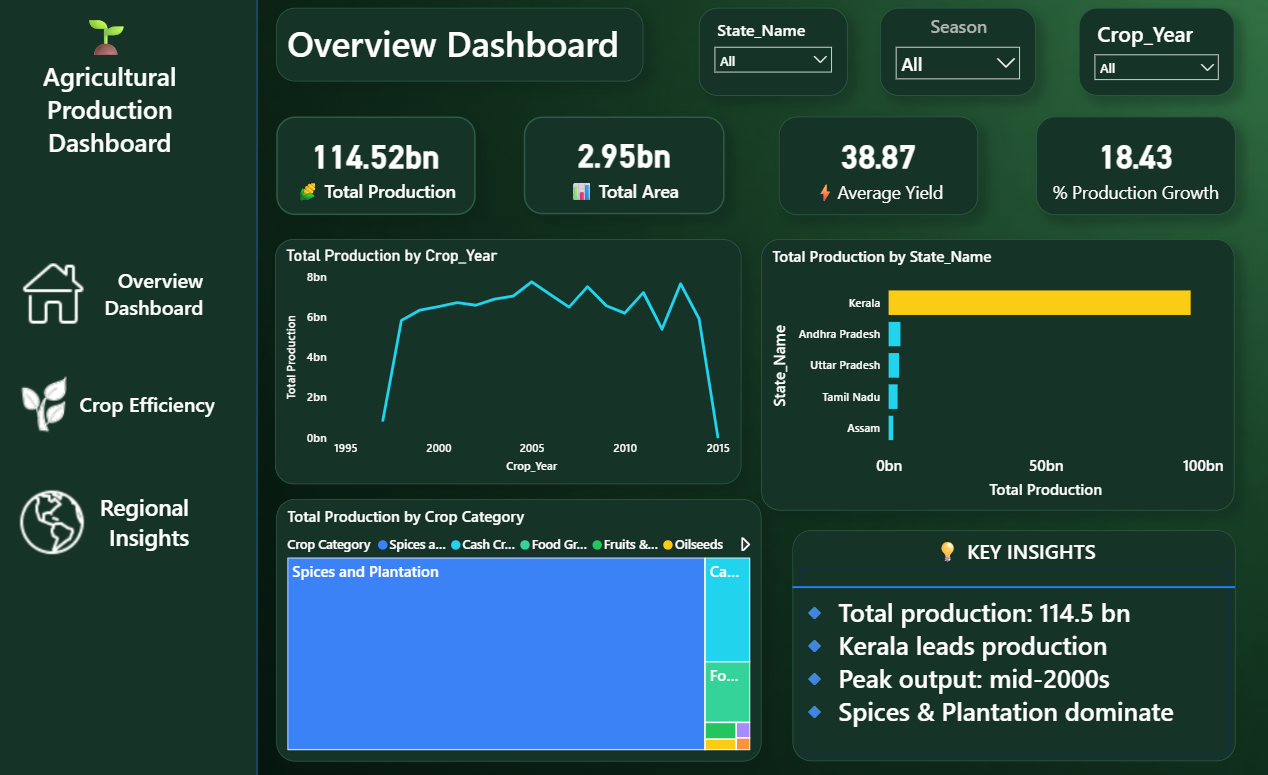

Layout of this report page (visuals, bound fields, positions):
{"tool":"powerbi","page":{"name":"Overview Dashboard","canvas":[1362,857],"ordinal":0},"visuals":[{"type":"shape","title":"💡 KEY INSIGHTS","box":[848,575.5,471.3,245.6],"z":1000,"group":"g1"},{"type":"shape","box":[848.5,607.2,470.5,57.2],"z":1500,"group":"g1"},{"type":"card","fields":{"Values":["Dim_Crop.No Data Message"]},"box":[847.4,247.2,439.1,279.4],"z":2000},{"type":"shape","box":[20,284.3,230,80],"z":3000},{"type":"card","fields":{"Values":["Dim_Crop.Total Production Card"]},"box":[298.4,135.2,211.7,104.6],"z":4000},{"type":"card","fields":{"Values":["Dim_Crop.Total Area Card"]},"box":[562.2,135.6,214,103.7],"z":5000},{"type":"card","fields":{"Values":["Dim_Crop.Average Yield Card"]},"box":[832.8,135.2,211.7,104.6],"z":6000},{"type":"areaChart","fields":{"Category":["Dim_Year.Crop_Year"],"Y":["Fact_Agriculture.Total Production"]},"box":[297.8,265.6,495.9,261],"z":7000},{"type":"treemap","fields":{"Group":["Dim_Crop.Crop Category"],"Values":["Fact_Agriculture.Total Production"]},"box":[299.4,541.9,515.8,279.4],"z":8000},{"type":"clusteredBarChart","fields":{"Category":["Dim_State.State_Name"],"Y":["Fact_Agriculture.Total Production"]},"box":[815.2,265.6,503.5,288.6],"z":9000},{"type":"slicer","fields":{"Values":["Dim_State.State_Name"]},"box":[747.6,20,158.1,93.6],"z":10000},{"type":"slicer","title":"Season","fields":{"Values":["Dim_Season.Season"]},"box":[941.1,20,165.8,93.6],"z":11000},{"type":"slicer","fields":{"Values":["Dim_Year.Crop_Year"]},"box":[1152.9,20,165.8,93.6],"z":12000},{"type":"card","fields":{"Values":["Dim_Crop.Production Growth Card"]},"box":[1106.9,135.2,211.7,104.6],"z":13000},{"type":"shape","box":[0,0,279.1,857.3],"z":14000},{"type":"textbox","box":[20,20,204.3,184.3],"z":15000},{"type":"actionButton","box":[20,405.3,218,72.2],"z":16000},{"type":"actionButton","box":[20,526.6,190.4,81.4],"z":17000},{"type":"actionButton","box":[21.5,282.5,204.2,81.4],"z":18000},{"type":"textbox","box":[299,19.9,390.8,78.4],"z":19000},{"type":"textbox","box":[848,621.6,471.3,179.6],"z":20000,"group":"g1"},{"type":"group","id":"g1","title":"Group 1","box":[848,575.5,470.5,245.9],"z":20001}]}

Visuals, with their boxes on the page's 1362x857 design canvas (x1, y1, x2, y2). These are canvas units, not pixel positions in the 1268x775 screenshot, which may show the page scaled, cropped or inside an application window:
"💡 KEY INSIGHTS" shape: pyautogui.locateOnScreen(848, 576, 1319, 821)
shape: pyautogui.locateOnScreen(848, 607, 1319, 664)
card - Dim_Crop.No Data Message: pyautogui.locateOnScreen(847, 247, 1286, 527)
shape: pyautogui.locateOnScreen(20, 284, 250, 364)
card - Dim_Crop.Total Production Card: pyautogui.locateOnScreen(298, 135, 510, 240)
card - Dim_Crop.Total Area Card: pyautogui.locateOnScreen(562, 136, 776, 239)
card - Dim_Crop.Average Yield Card: pyautogui.locateOnScreen(833, 135, 1044, 240)
areaChart - Dim_Year.Crop_Year x Fact_Agriculture.Total Production: pyautogui.locateOnScreen(298, 266, 794, 527)
treemap - Dim_Crop.Crop Category x Fact_Agriculture.Total Production: pyautogui.locateOnScreen(299, 542, 815, 821)
clusteredBarChart - Dim_State.State_Name x Fact_Agriculture.Total Production: pyautogui.locateOnScreen(815, 266, 1319, 554)
slicer - Dim_State.State_Name: pyautogui.locateOnScreen(748, 20, 906, 114)
"Season" slicer: pyautogui.locateOnScreen(941, 20, 1107, 114)
slicer - Dim_Year.Crop_Year: pyautogui.locateOnScreen(1153, 20, 1319, 114)
card - Dim_Crop.Production Growth Card: pyautogui.locateOnScreen(1107, 135, 1319, 240)
shape: pyautogui.locateOnScreen(0, 0, 279, 857)
textbox: pyautogui.locateOnScreen(20, 20, 224, 204)
actionButton: pyautogui.locateOnScreen(20, 405, 238, 478)
actionButton: pyautogui.locateOnScreen(20, 527, 210, 608)
actionButton: pyautogui.locateOnScreen(22, 282, 226, 364)
textbox: pyautogui.locateOnScreen(299, 20, 690, 98)
textbox: pyautogui.locateOnScreen(848, 622, 1319, 801)
"Group 1" group: pyautogui.locateOnScreen(848, 576, 1318, 821)
